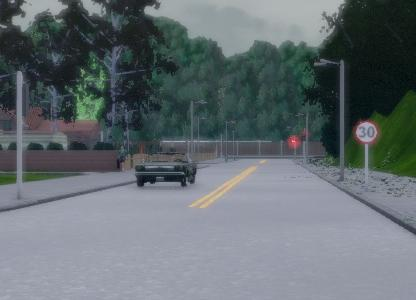Speed_30: (351, 115, 379, 145)
